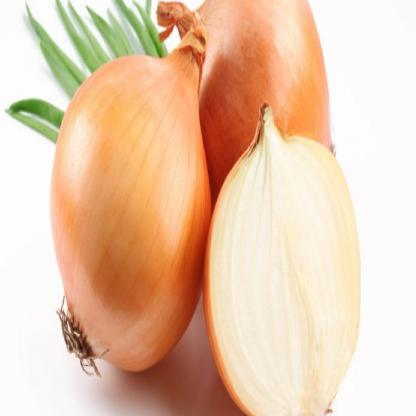onion: (47, 2, 216, 406)
